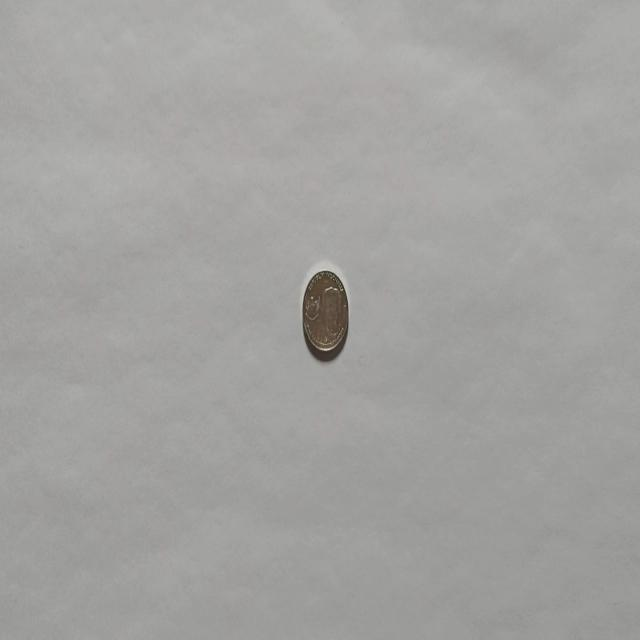seratus rupiah: (301, 268, 349, 356)
